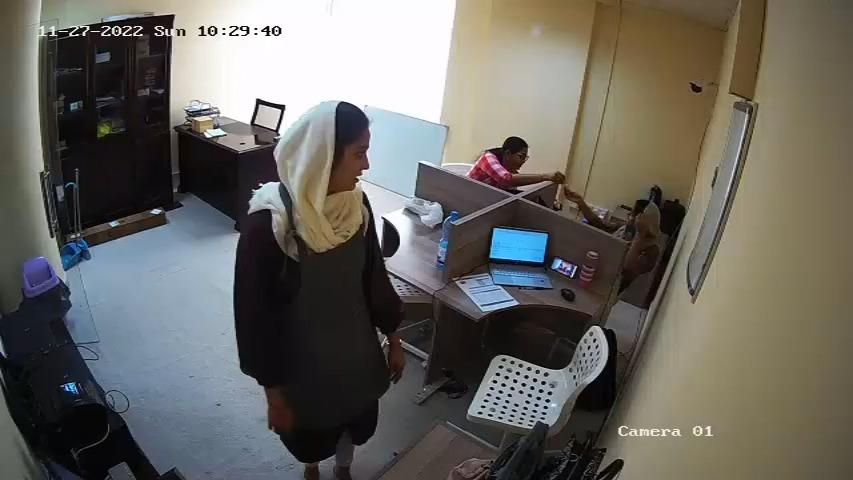apron: (280, 200, 381, 390)
